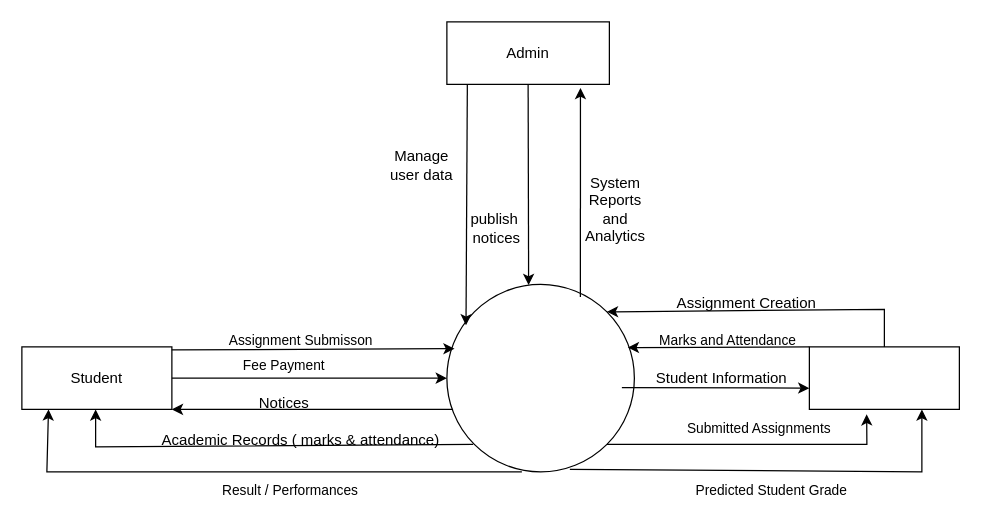
The diagram is 981 pixels wide and 531 high, and some of its shapes have lost their labels. Each missing label, with the box of its shape:
College Management System: (446, 283, 634, 472)
Teacher: (808, 346, 959, 409)
